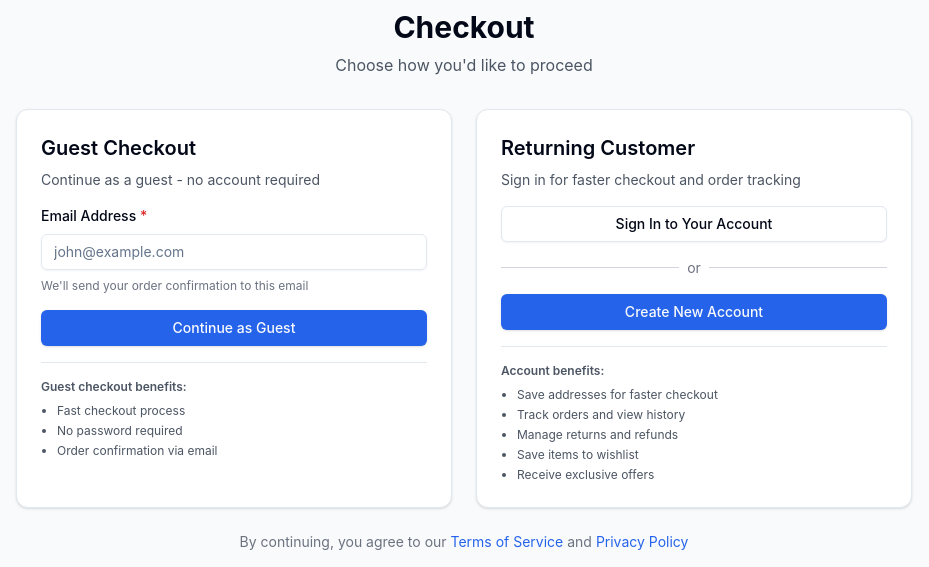
GuestCheckoutPrompt › Guest Checkout Flow › should show error for invalid email
Type "invalid-email" into the field with test id "guest-email-input" at (234, 252), box [41, 234, 427, 270]
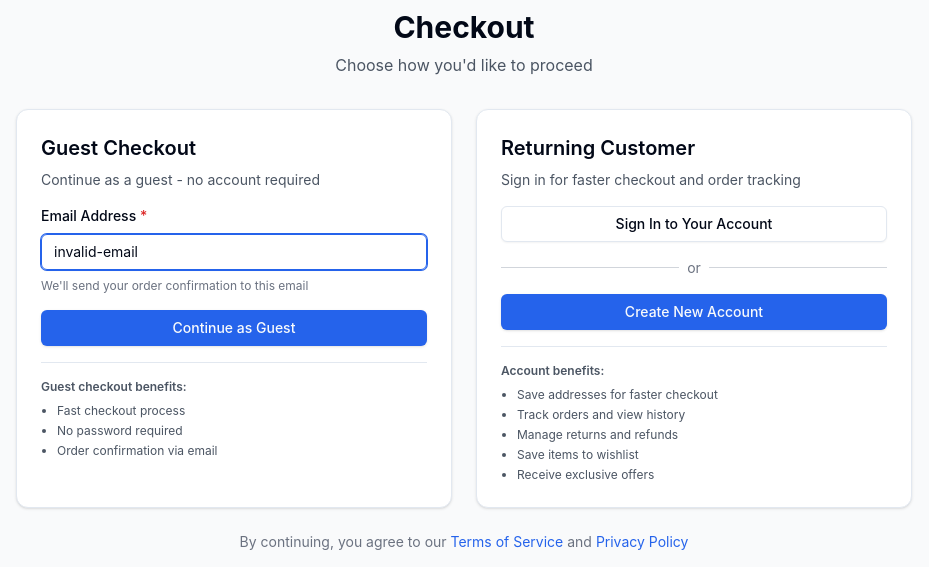
Click the button with test id "continue-as-guest-button" at (234, 328), box [41, 310, 427, 346]
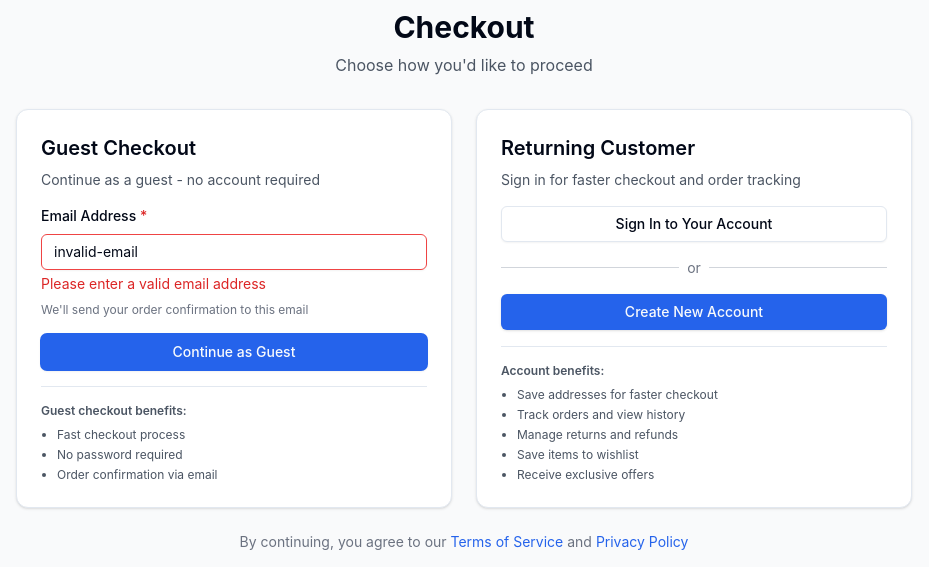
Check: the text "Please enter a valid email address" is shown, box [41, 274, 266, 292]
